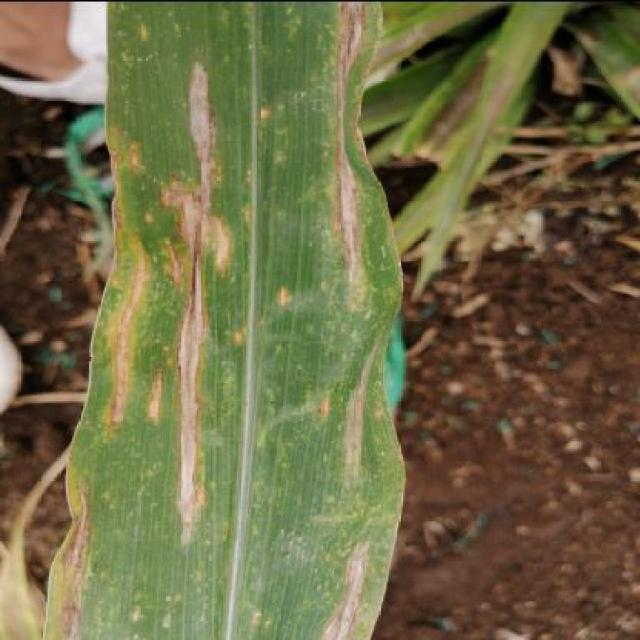Corn_Leaf_Blight: (40, 0, 414, 640)
